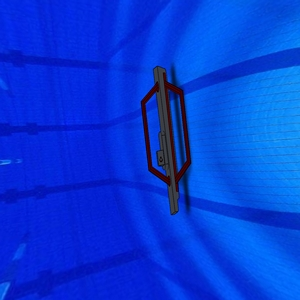submarine: (138, 64, 203, 218)
